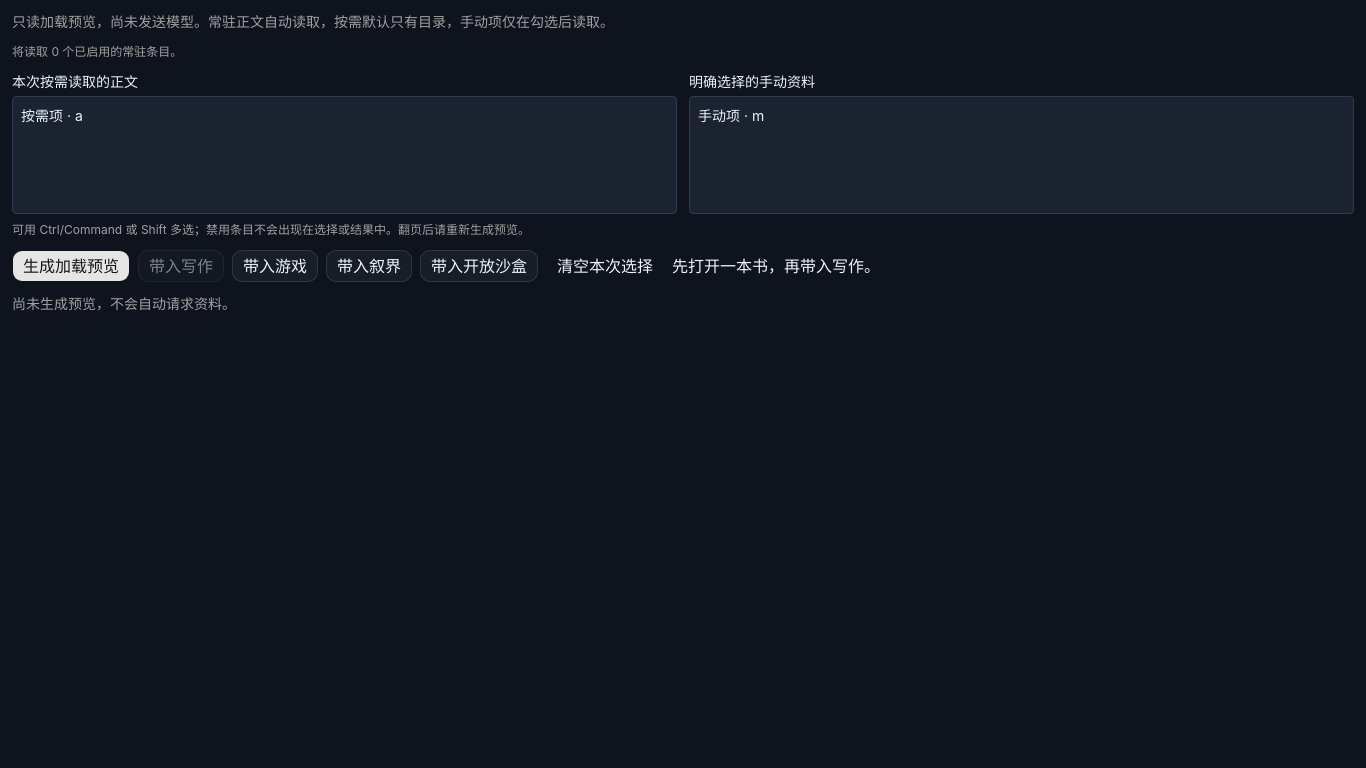
library launch to game (B3b) › opens the target dialog, writes nothing on cancel, and keeps the game side untouched
Click the button "带入游戏" at (275, 266), box [232,250,318,282]
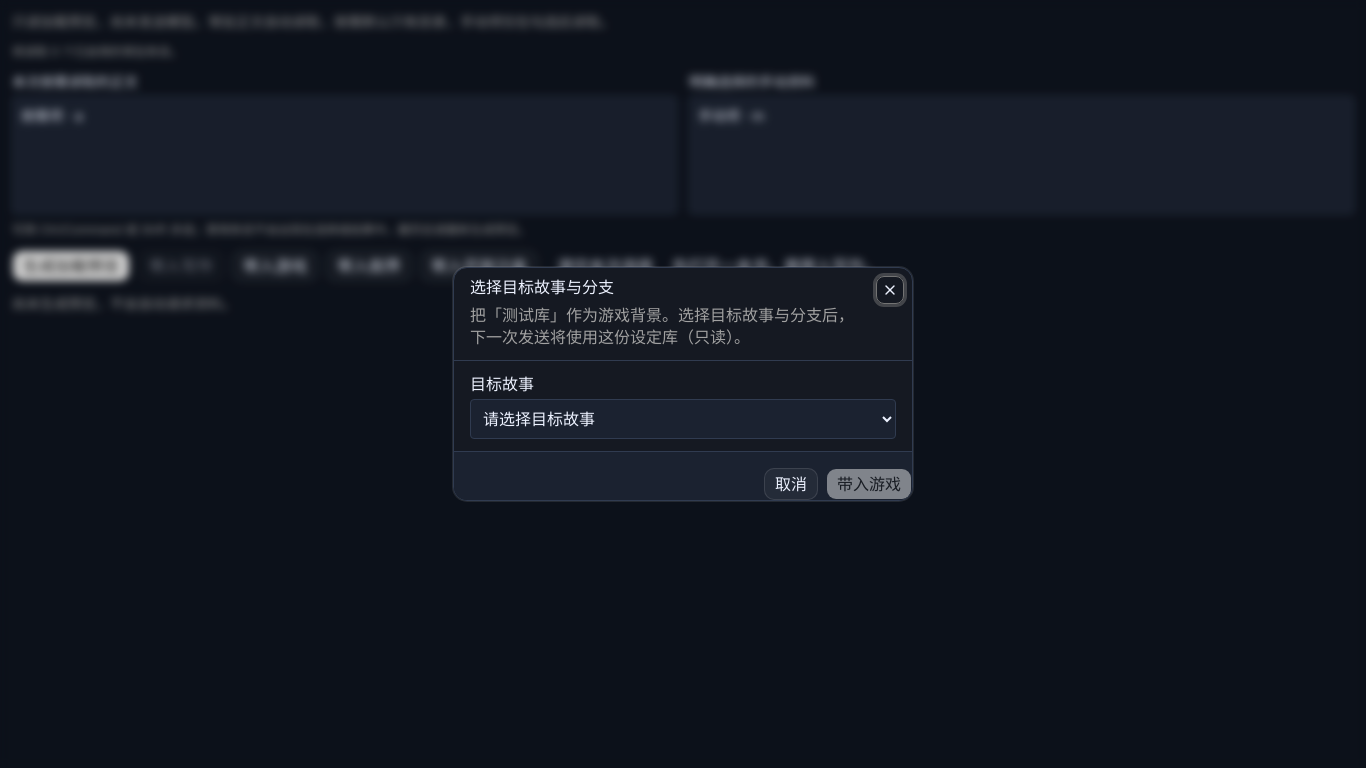
Expected: the dialog is shown, [453,267,913,501]
Click the button "取消" at (791, 484), box [764,468,818,500]
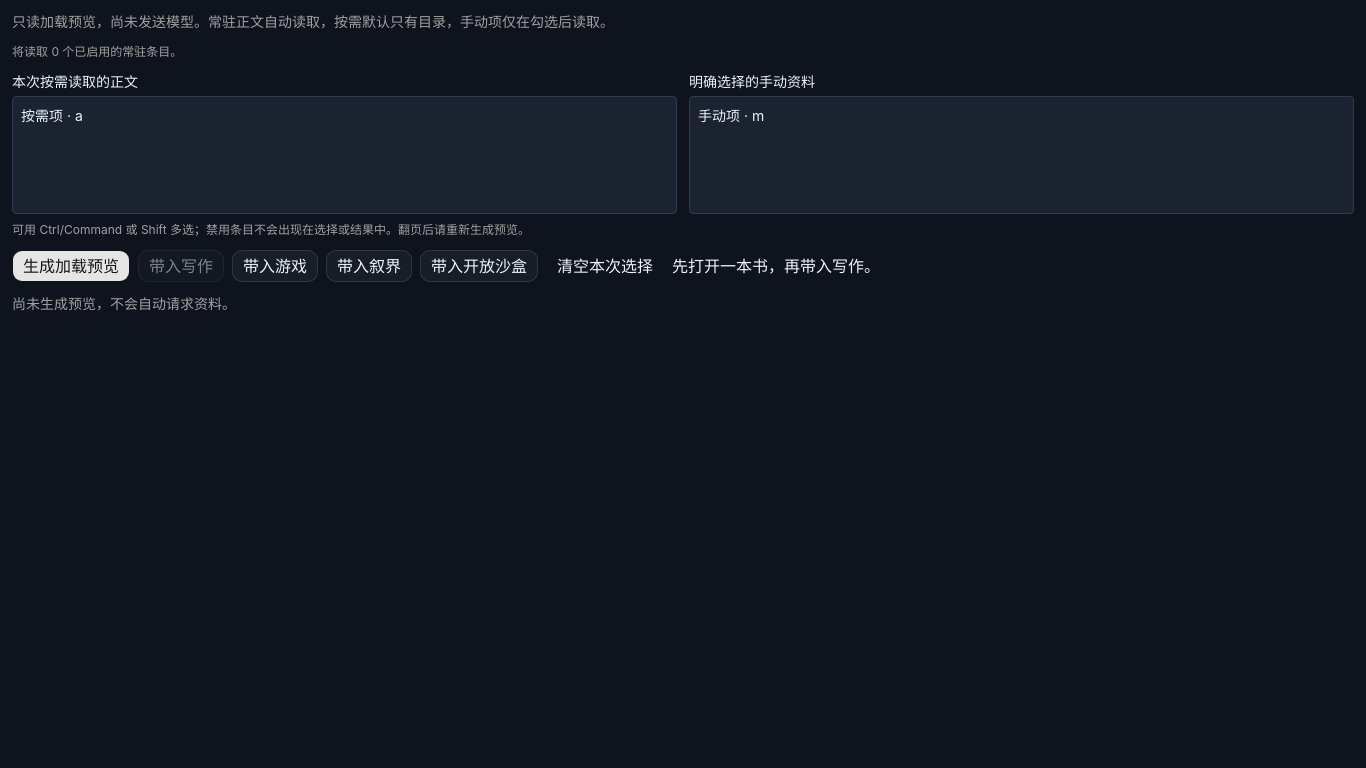
Expected: the dialog is gone
